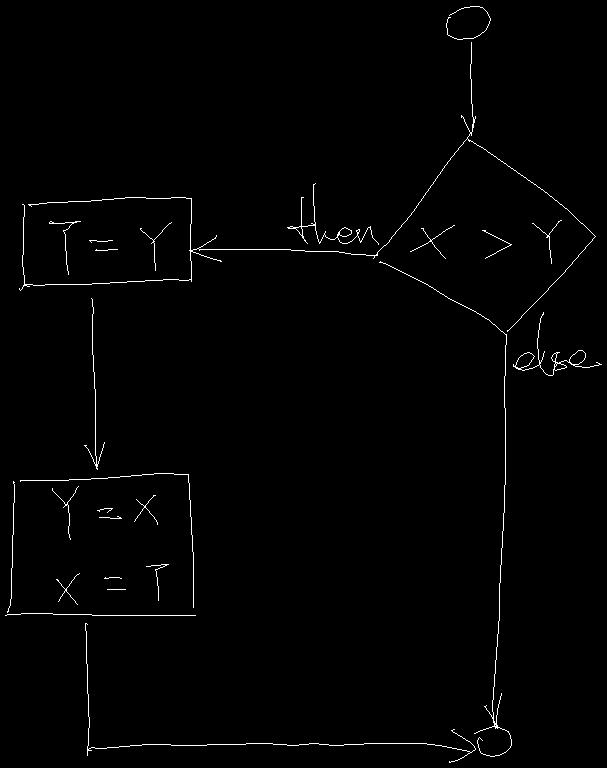arrow: (85, 623, 475, 762), (484, 334, 506, 728), (189, 235, 377, 261), (84, 298, 104, 469), (461, 42, 475, 135)
connection: (446, 6, 490, 39), (474, 726, 511, 756)
decision: (373, 134, 595, 335)
process: (5, 473, 195, 615), (19, 197, 191, 290)
text: (52, 486, 168, 604), (410, 220, 561, 263), (49, 221, 171, 274), (287, 183, 378, 244), (513, 312, 601, 375)
